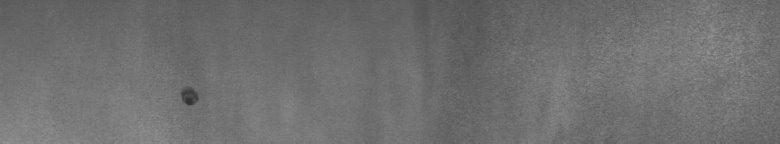fi: (175, 80, 201, 112)
